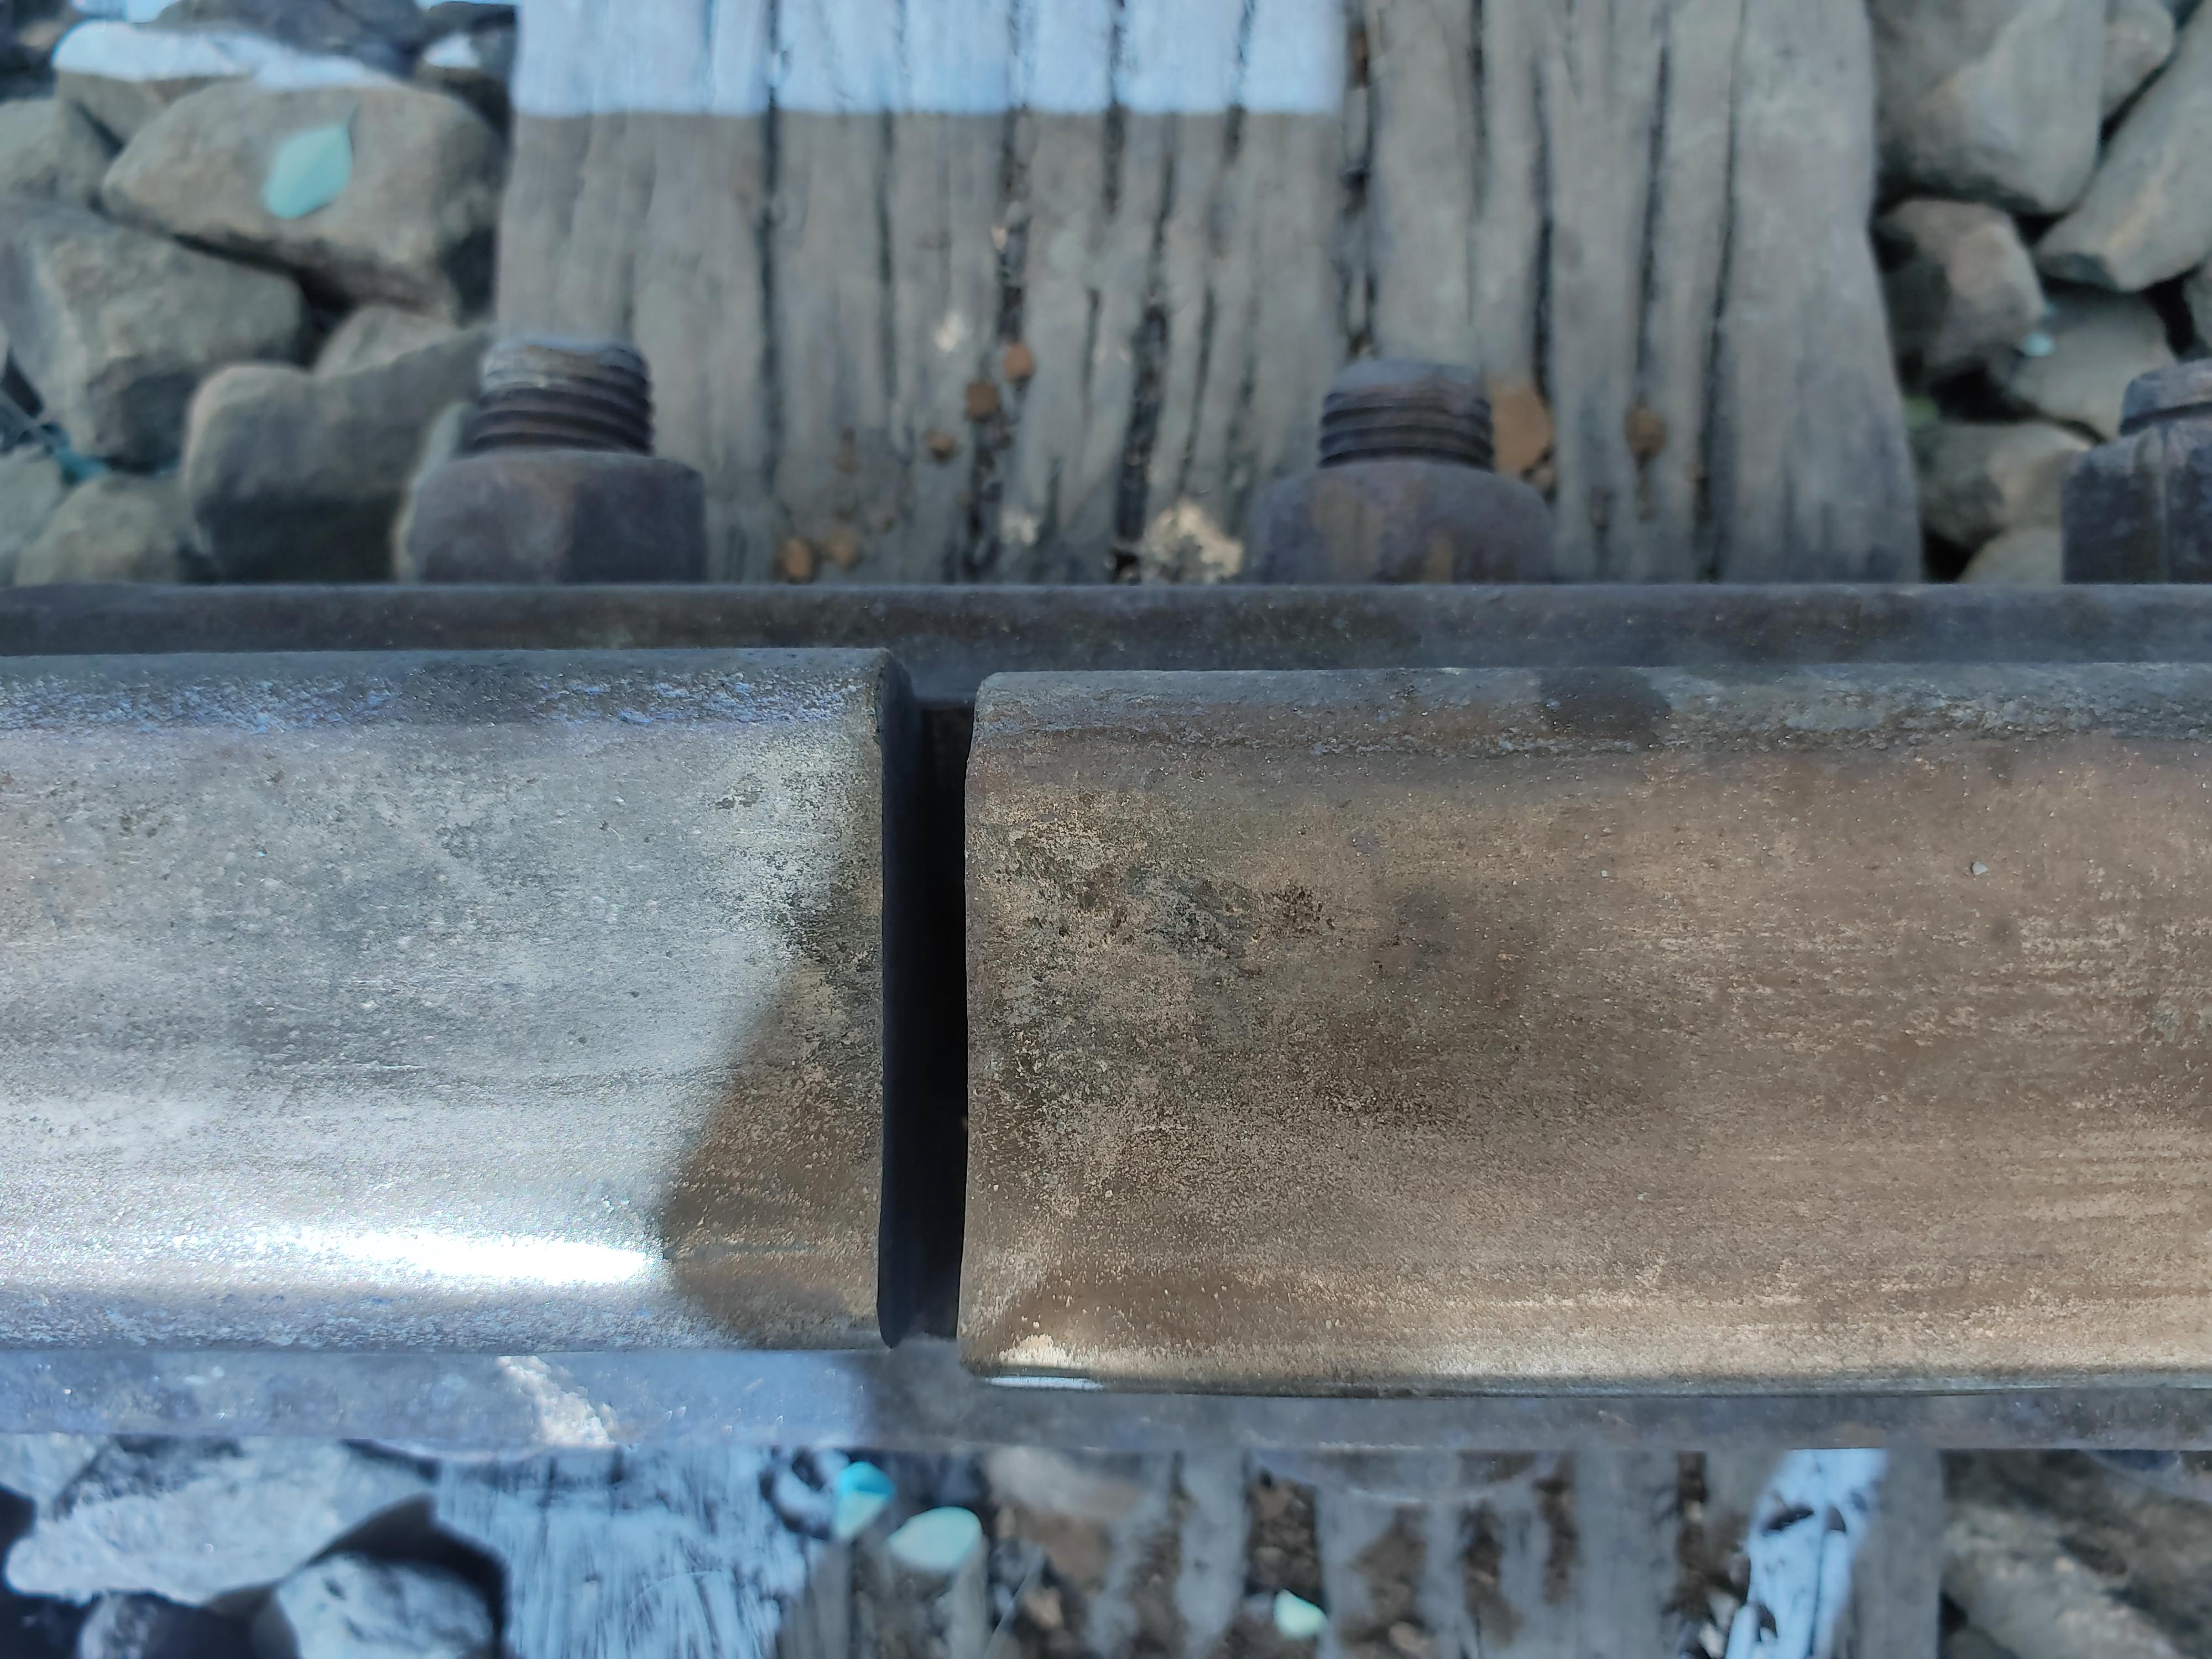error2: (801, 608, 1071, 1401)
